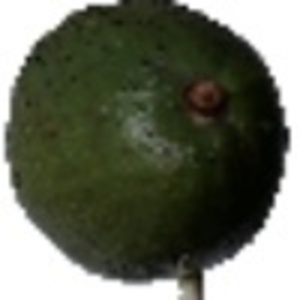abacate: (8, 1, 292, 281)
